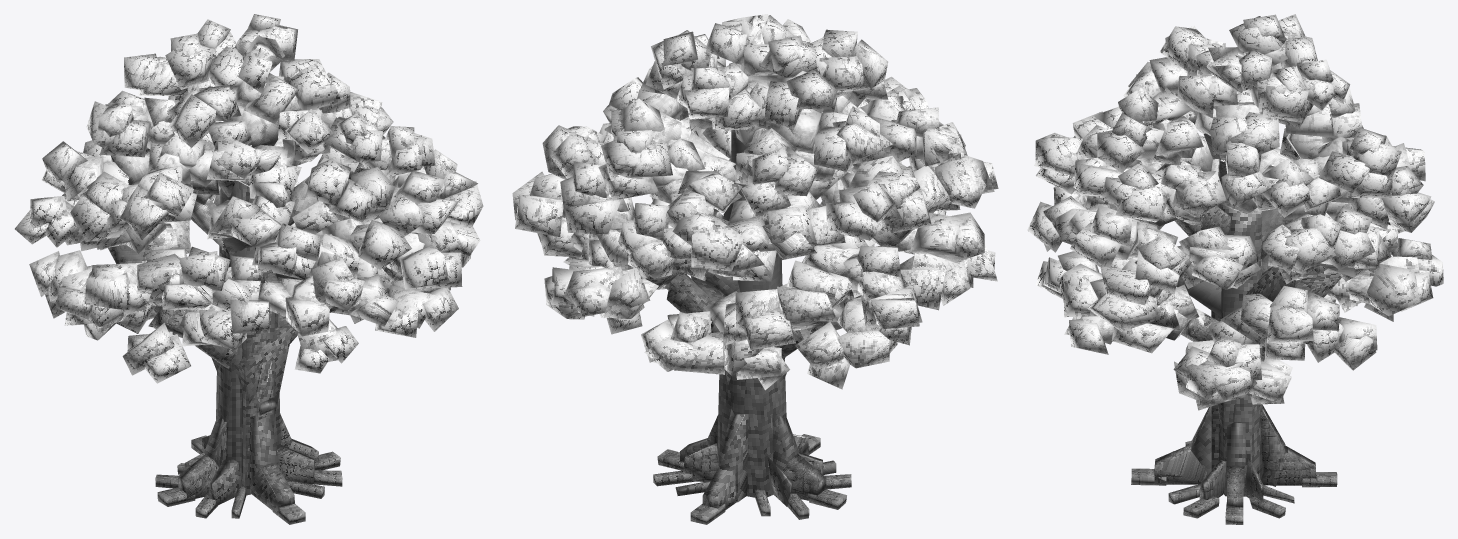
Rendered from arvore_voxel.glb.
The picture shows the model from 3 angles, left to right: view 1: azimuth 30°, elevation 25°; view 2: azimuth 150°, elevation 25°; view 3: azimuth 270°, elevation 25°; orthographic projection. The views are drawn at different scales.
Parts seen in each view (by area): view 1: Folhagem, Tronco; view 2: Folhagem, Tronco; view 3: Folhagem, Tronco.
Part boxes in pixels (x1=…): Folhagem: x1=15, y1=14, x2=483, y2=383; Tronco: x1=108, y1=127, x2=359, y2=524; Folhagem: x1=512, y1=14, x2=998, y2=390; Tronco: x1=644, y1=128, x2=913, y2=524; Folhagem: x1=1027, y1=14, x2=1443, y2=410; Tronco: x1=1131, y1=109, x2=1341, y2=524.
Size of the model in its own units: 6.25 by 6.4 by 5.49.
2 materials, 2 textured.
